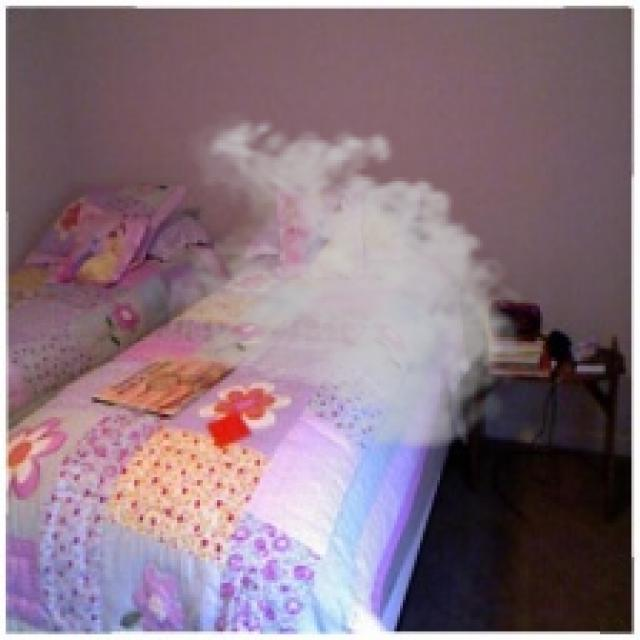Smoke: (166, 109, 532, 458)
